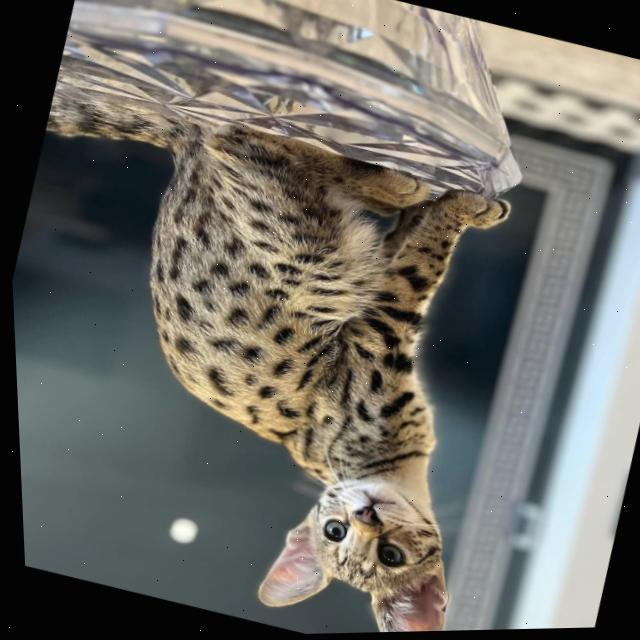Savannah: (3, 74, 560, 640)
